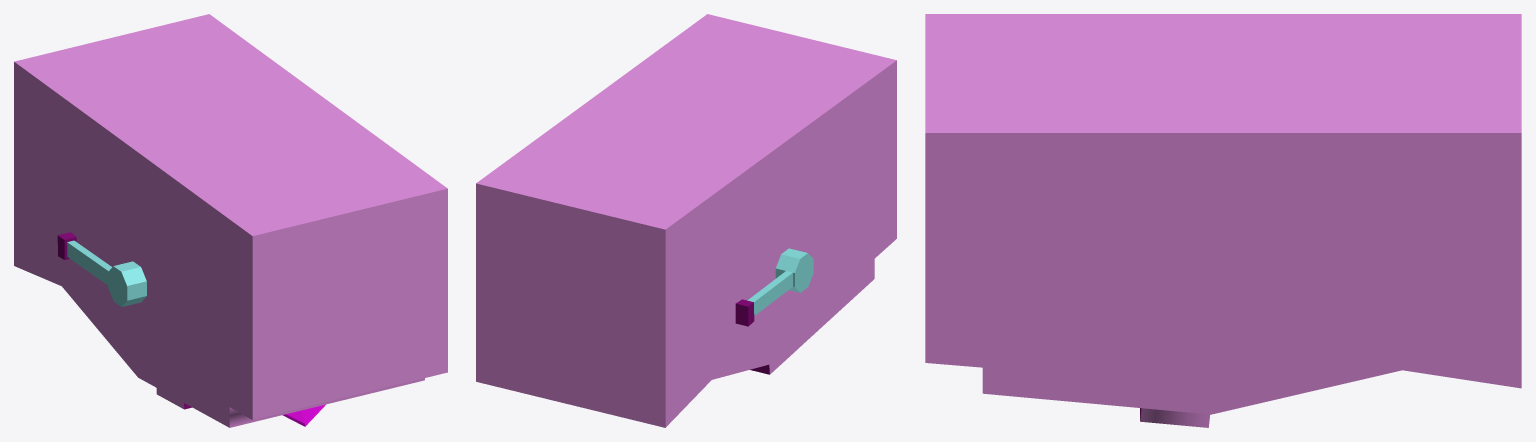
Rendered from Slot_Machine_01_FINAL.fbx.
The picture shows the model from 3 angles, left to right: view 1: azimuth 30°, elevation 25°; view 2: azimuth 150°, elevation 25°; view 3: azimuth 270°, elevation 25°; orthographic projection. The views are drawn at different scales.
Visible parts, largest first — view 1: Slot_Machine_2; view 2: Slot_Machine_2; view 3: Slot_Machine_2.
Boxes of the visible parts, <box> form: Slot_Machine_2: <box>14,14,447,427</box>; Slot_Machine_2: <box>476,14,896,427</box>; Slot_Machine_2: <box>925,14,1521,427</box>.
Bounding box in the file's own units: 7.57 × 8.22 × 14.48.
